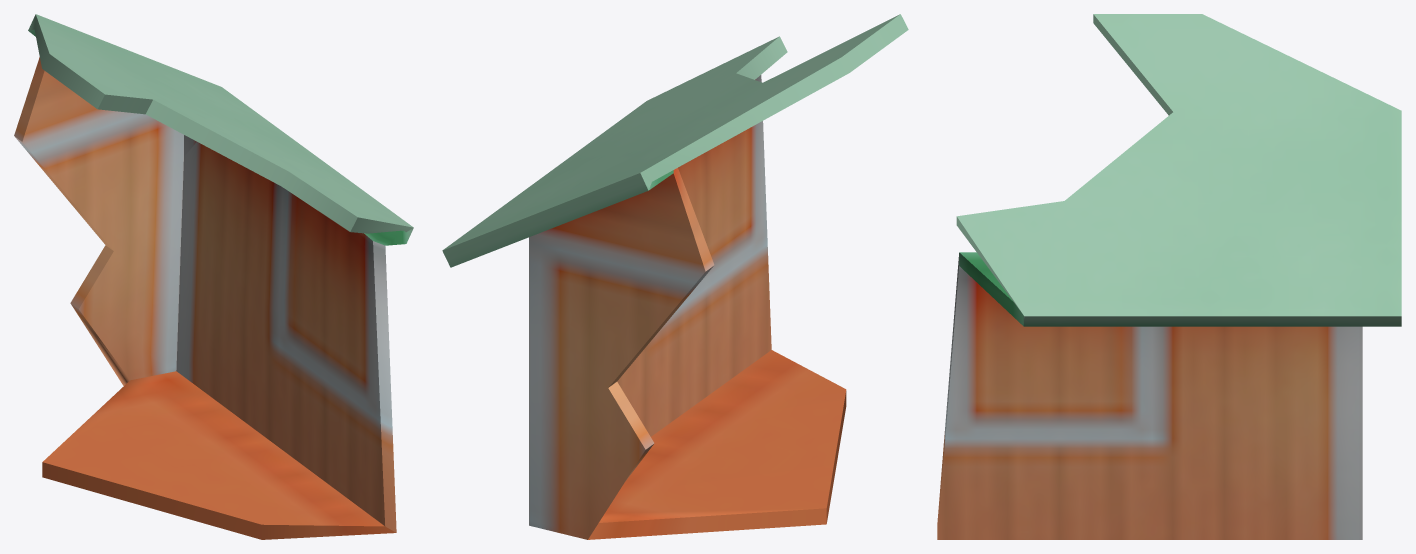
File: B4Broke03.FBX
3 renders of one model, left to right at view 1: azimuth 30°, elevation 25°; view 2: azimuth 150°, elevation 25°; view 3: azimuth 270°, elevation 25°, orthographic. The views are drawn at different scales.
Parts seen in each view (by area): view 1: B4Broke03; view 2: B4Broke03; view 3: B4Broke03.
Boxes of the visible parts, x1,y1,x2,y2 form: B4Broke03: (14,14,413,539); B4Broke03: (442,14,908,539); B4Broke03: (937,14,1401,539).
Bounding box in the file's own units: 37.12 × 54.49 × 54.06.
